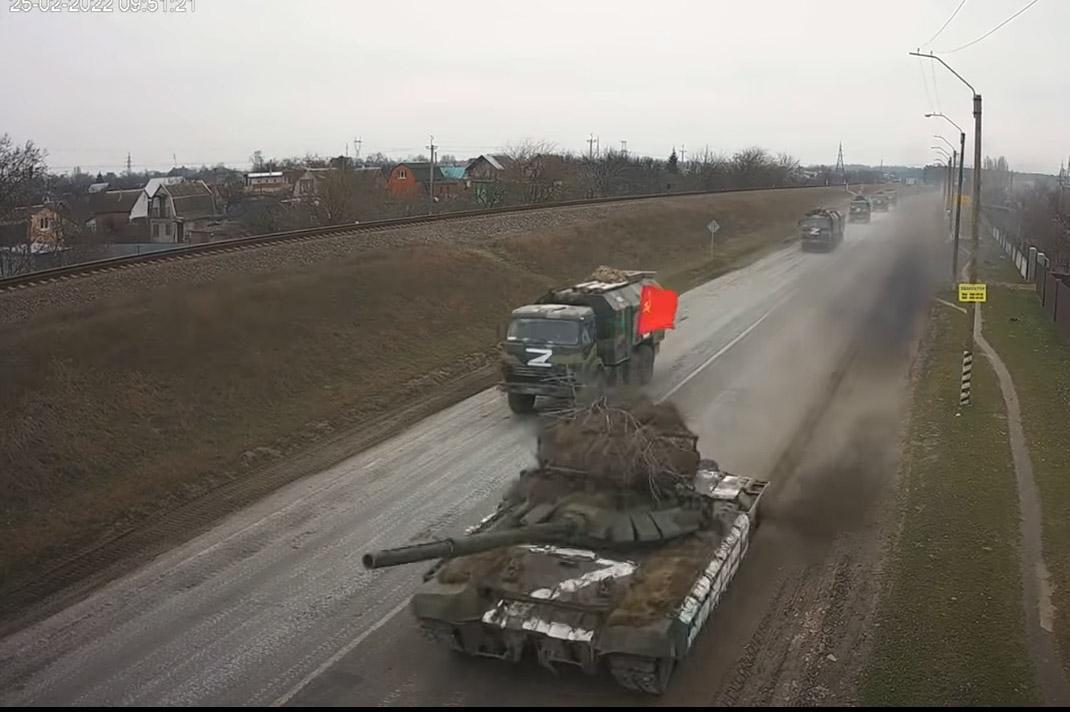tank: (359, 387, 782, 680)
truck: (501, 267, 673, 416), (796, 205, 846, 253), (844, 197, 872, 233), (872, 192, 890, 217)
